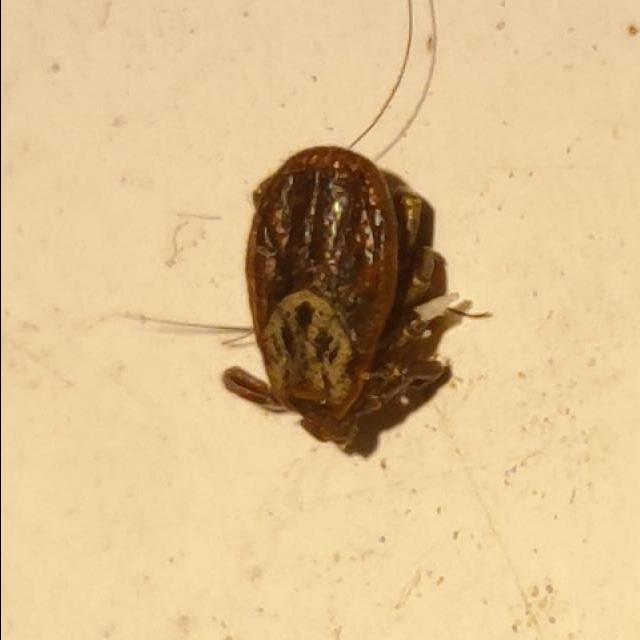Dermacentor Reticulatus-F: (223, 146, 448, 445)
